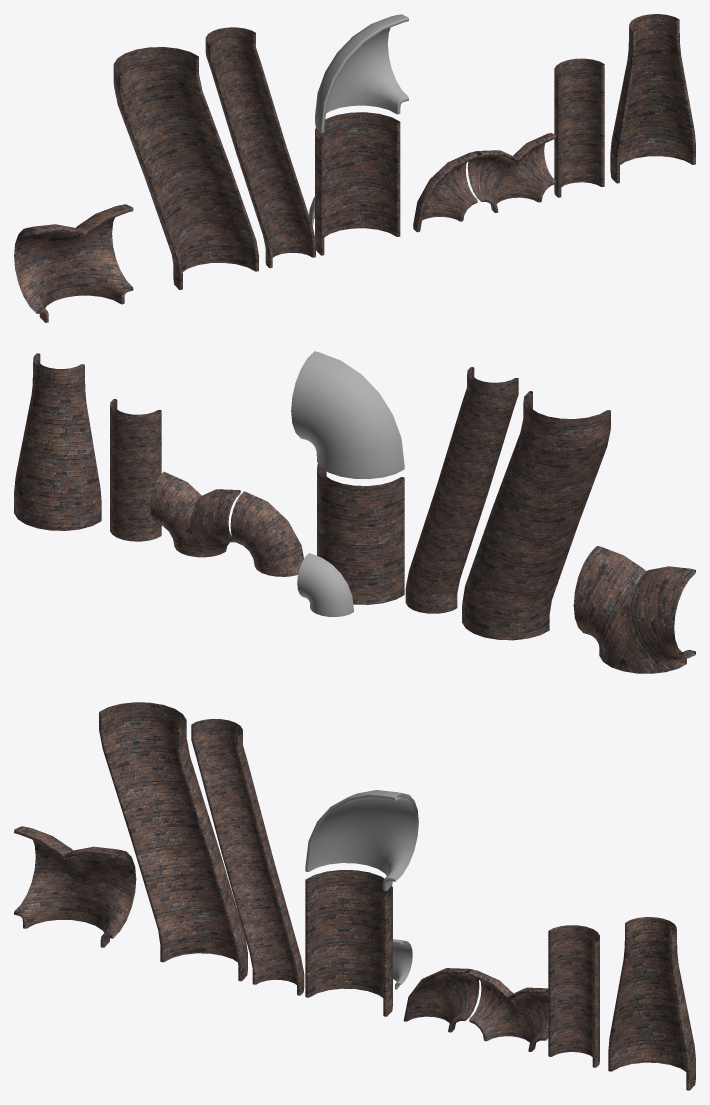
The model's file is pipes.fbx.
The picture shows the model from 3 angles, top to bottom: view 1: azimuth 30°, elevation 25°; view 2: azimuth 150°, elevation 25°; view 3: azimuth 330°, elevation 25°; orthographic projection. The views are drawn at different scales.
Visible parts, largest first — view 1: pipe_side, pipe_small_side, pipe_normal, pipe_to_small, Y_pipe_normal, pipe_small_normal, pasted__pipe_turn, pipe_small_normal7, pipe_small_normal2; view 2: pipe_side, pasted__pipe_turn (×2), pipe_small_side, pipe_to_small, Y_pipe_normal, pipe_normal, pipe_small_normal, pipe_small_normal7, pipe_small_normal2; view 3: pipe_side, pipe_small_side, pipe_normal, pipe_to_small, Y_pipe_normal, pasted__pipe_turn (×2), pipe_small_normal, pipe_small_normal7, pipe_small_normal2.
Boxes of the visible parts, x1,y1,x2,y2 form: pipe_side: [113, 47, 258, 289]; pipe_small_side: [205, 27, 315, 268]; pipe_normal: [315, 112, 400, 255]; pipe_to_small: [610, 14, 695, 183]; Y_pipe_normal: [14, 204, 133, 322]; pipe_small_normal: [554, 58, 604, 197]; pasted__pipe_turn: [315, 14, 408, 132]; pipe_small_normal7: [467, 133, 555, 212]; pipe_small_normal2: [413, 152, 477, 232]; pipe_side: [462, 391, 610, 640]; pasted__pipe_turn (×2): [291, 351, 404, 616]; pipe_small_side: [405, 367, 518, 613]; pipe_to_small: [14, 353, 101, 530]; Y_pipe_normal: [573, 546, 695, 673]; pipe_normal: [317, 463, 404, 604]; pipe_small_normal: [110, 399, 161, 541]; pipe_small_normal7: [150, 471, 240, 557]; pipe_small_normal2: [230, 491, 303, 576]; pipe_side: [99, 702, 247, 981]; pipe_small_side: [191, 719, 304, 995]; pipe_normal: [305, 870, 392, 1016]; pipe_to_small: [608, 917, 695, 1090]; Y_pipe_normal: [14, 826, 136, 947]; pasted__pipe_turn (×2): [305, 790, 418, 989]; pipe_small_normal: [548, 925, 599, 1067]; pipe_small_normal7: [469, 970, 548, 1051]; pipe_small_normal2: [403, 968, 479, 1032].
Size of the model in its own units: 5892 by 2035 by 642.
